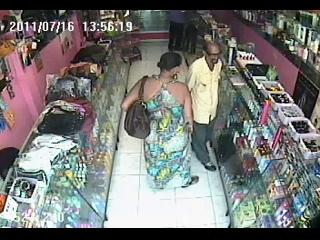Normal: (122, 51, 200, 190), (185, 40, 224, 172), (124, 75, 150, 139), (168, 11, 187, 52)
